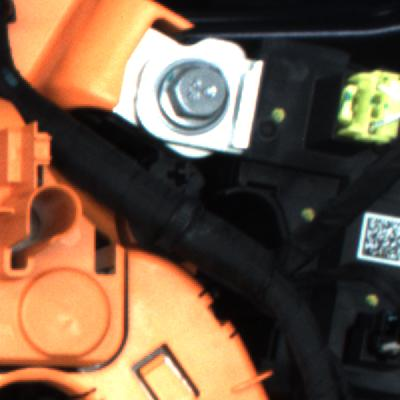nut_b: (141, 54, 257, 138)
